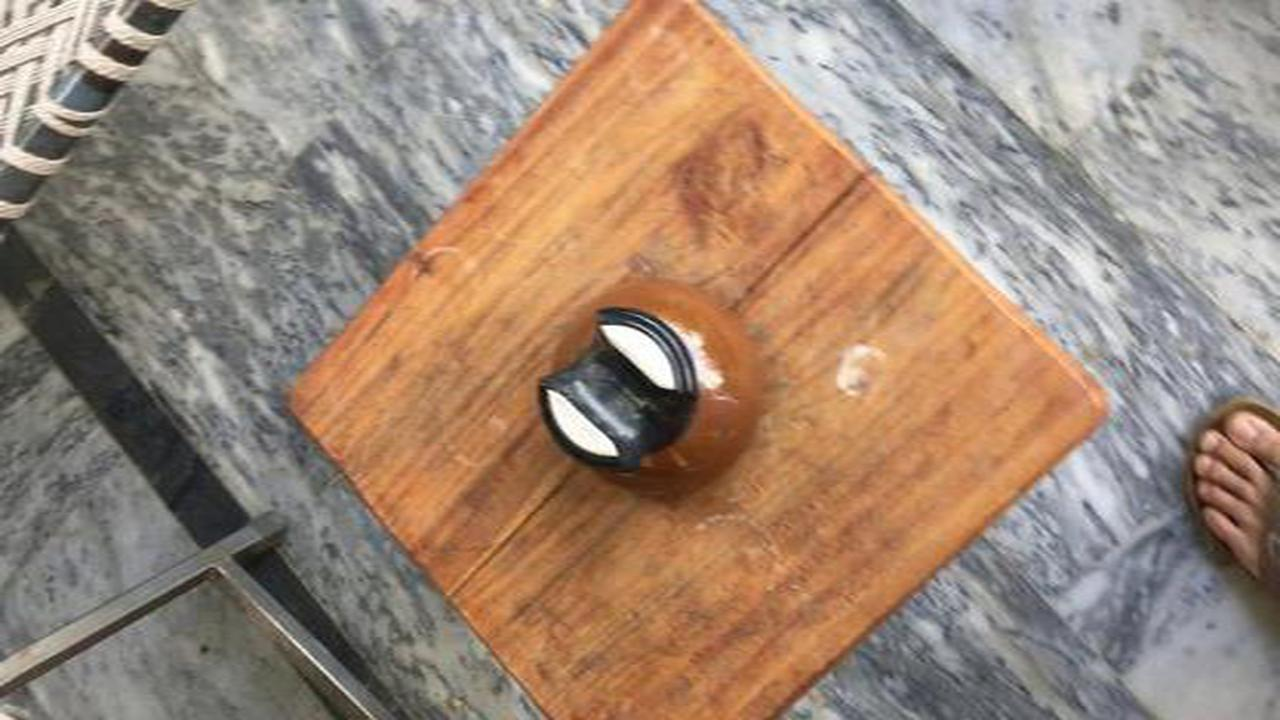insulator_pin: (521, 269, 785, 518)
